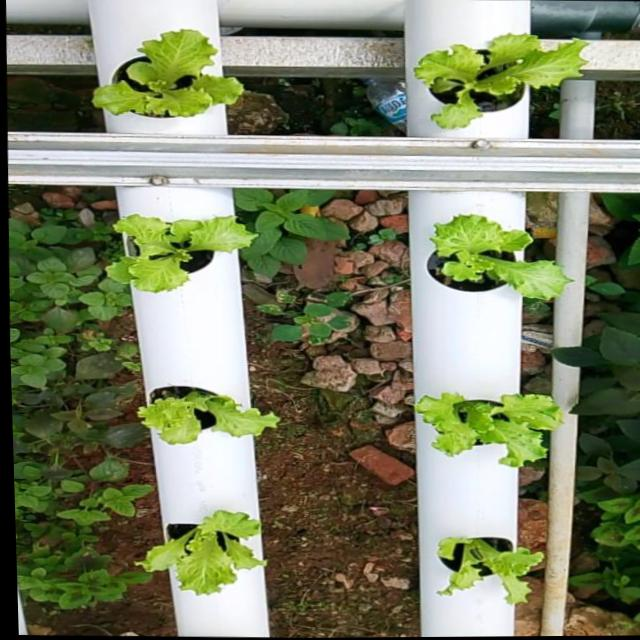Baby: (421, 40, 595, 135), (99, 32, 249, 136), (427, 214, 573, 300), (112, 217, 265, 296), (416, 393, 565, 467), (138, 510, 268, 594), (139, 385, 282, 444), (440, 537, 546, 603)
